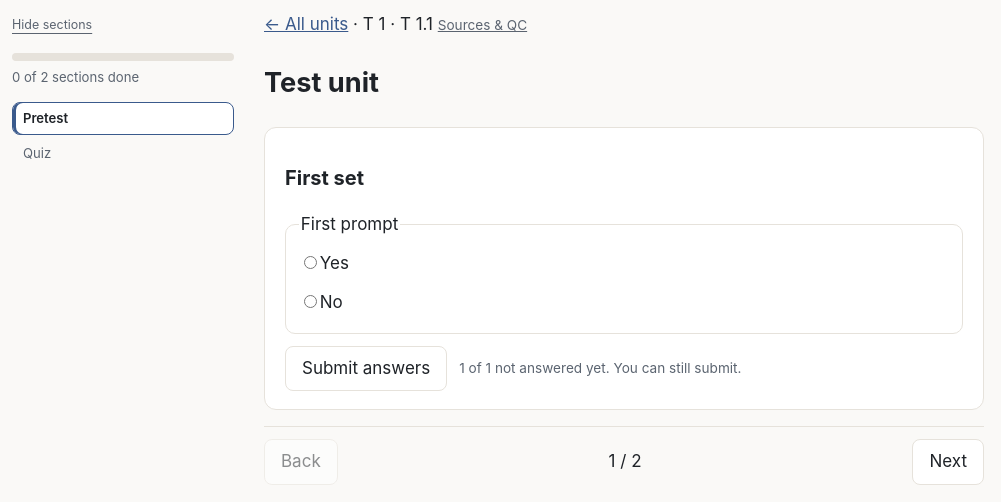
Test: UnitPlayer › does not leak submitted state between adjacent question sets
The width and height of the screenshot is (1001, 502).
Click the radio button labelled "Yes": (310, 263) [304,256,317,269]
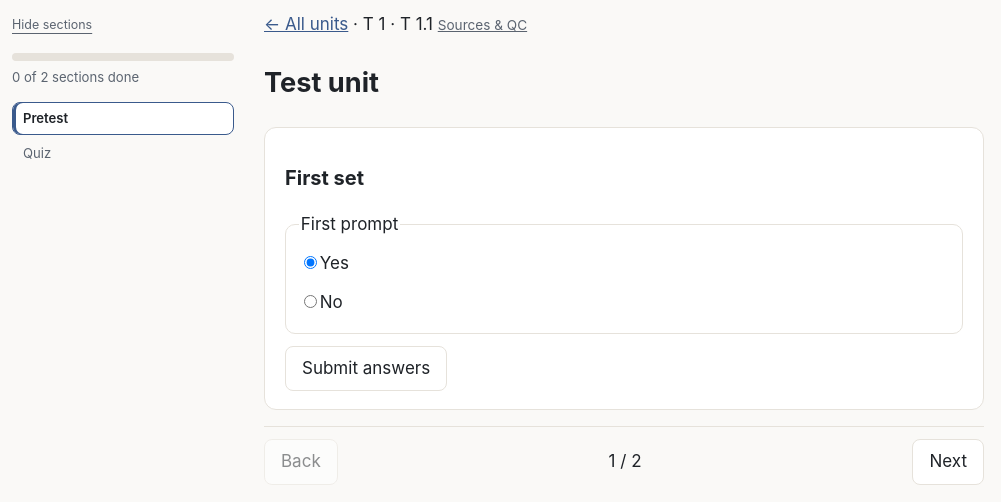
Click the button "Submit answers": (366, 369) [285,346,447,391]
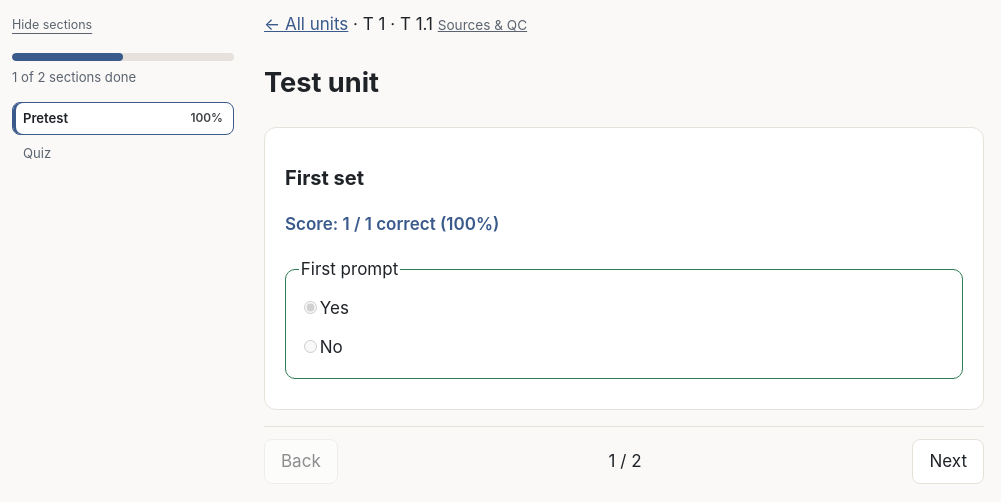
Result: the text "Score: 1 / 1 correct (100%)" is shown at [285,214,499,234]
Click the button "Next": (948, 461) [912,439,984,484]
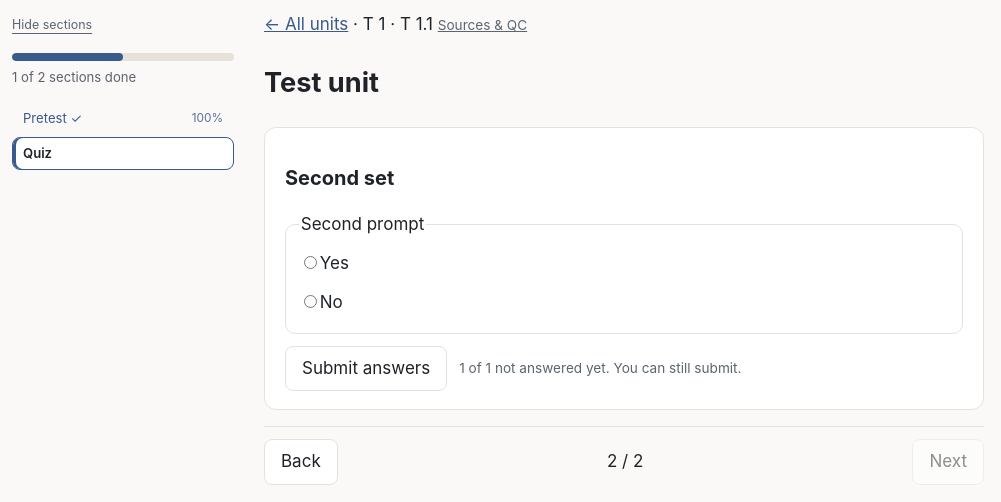
Result: the heading "Second set" is shown at [285,166,394,190]
Result: the text "Score:" is gone
Result: the button "Submit answers" is shown at [285,346,447,391]
